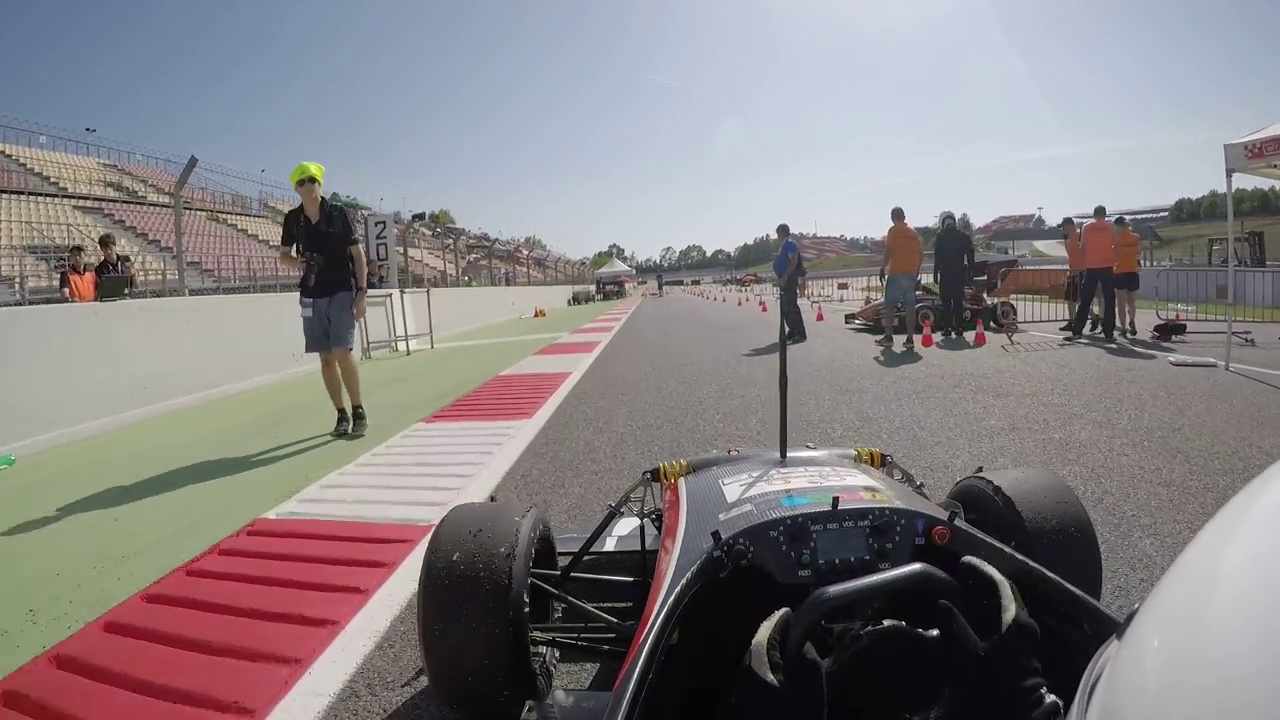Cone: (972, 318, 990, 348), (918, 318, 935, 348)
